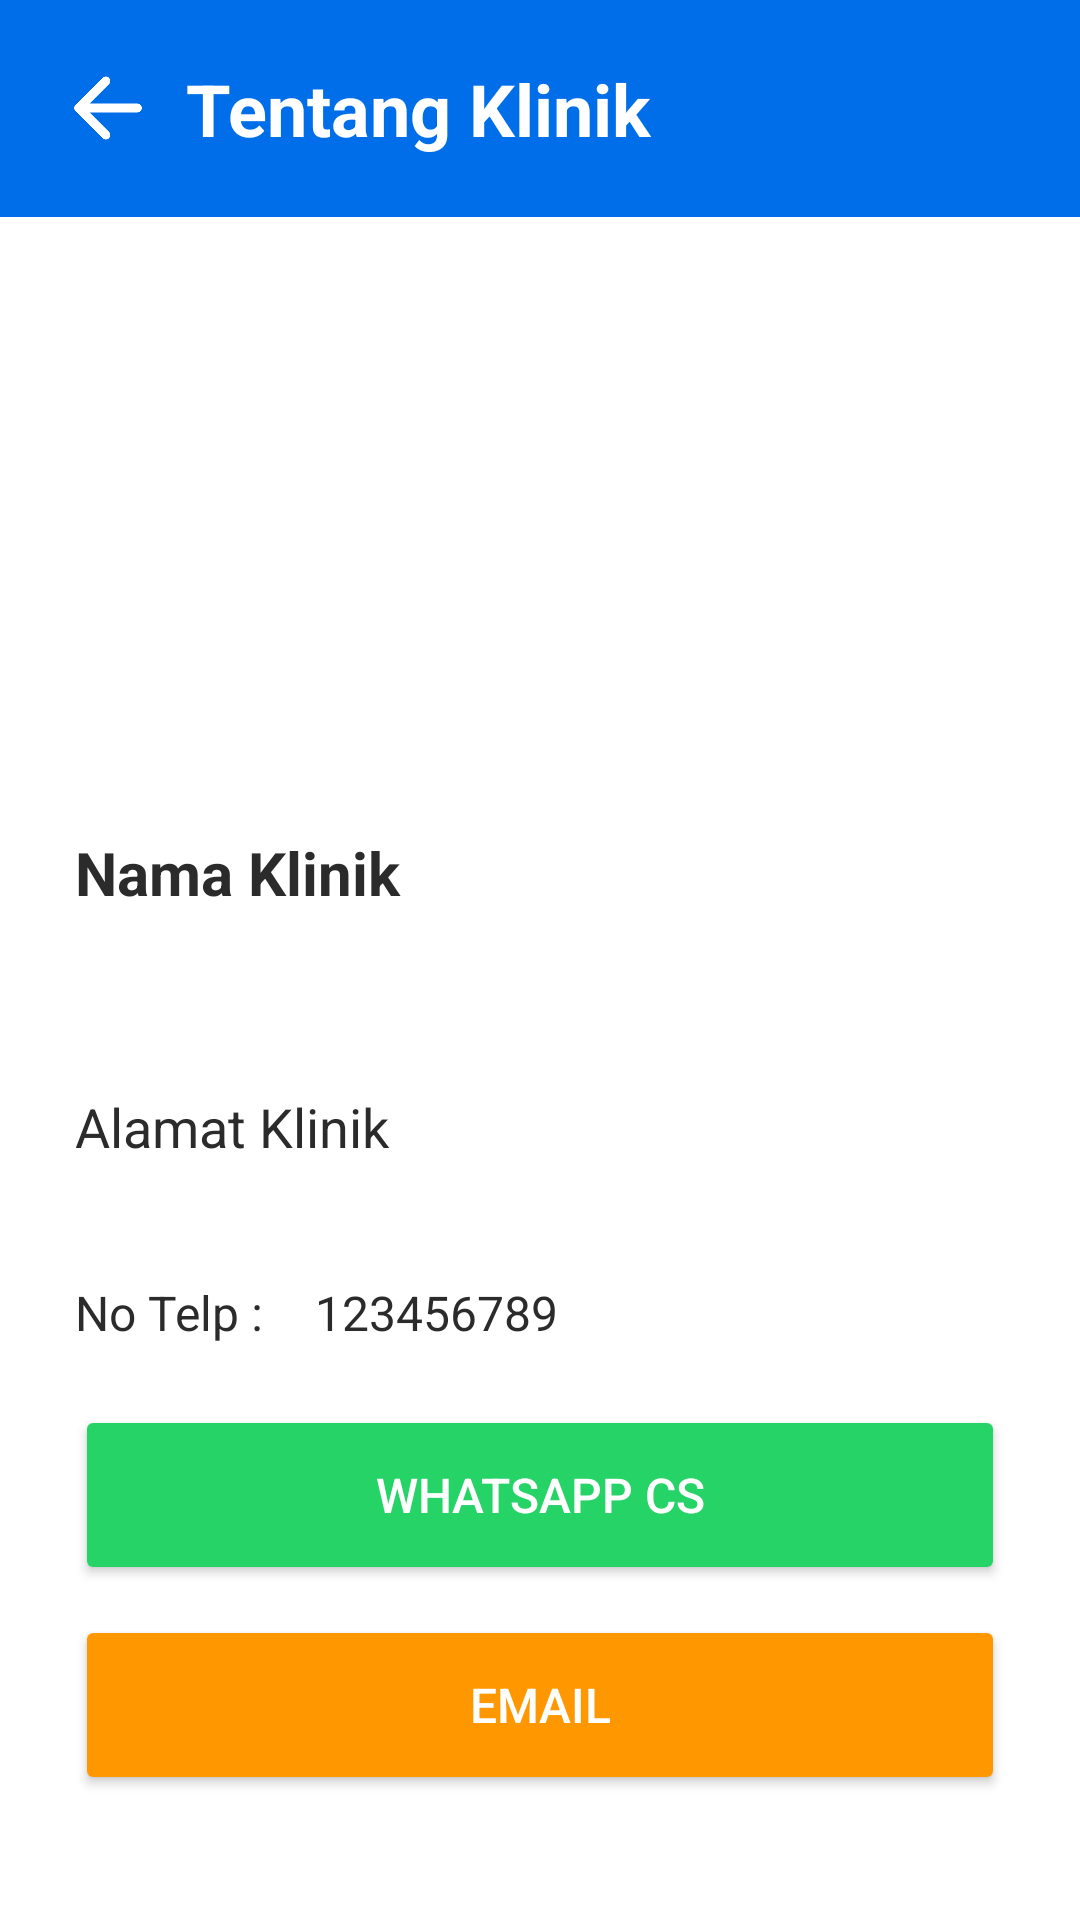

Where icons sit on this 1080 × 1920 app screen, as [x1,y1,x2,y2]:
back arrow: [74,76,142,140]
